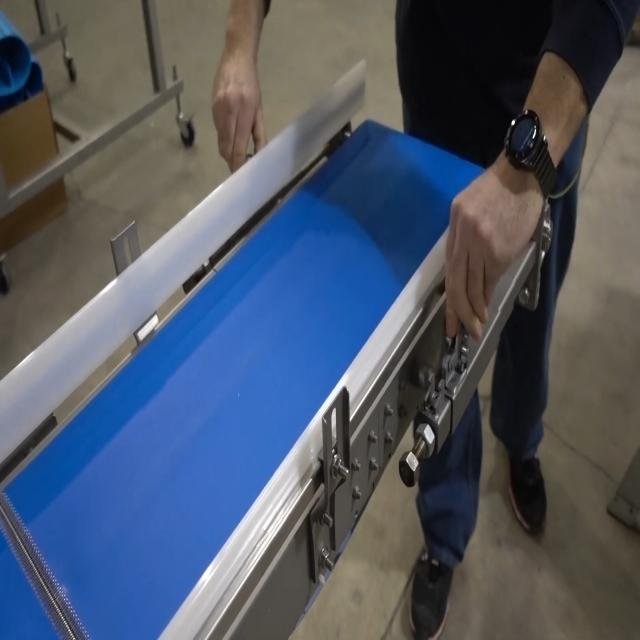Convoyeur: (0, 63, 555, 640)
